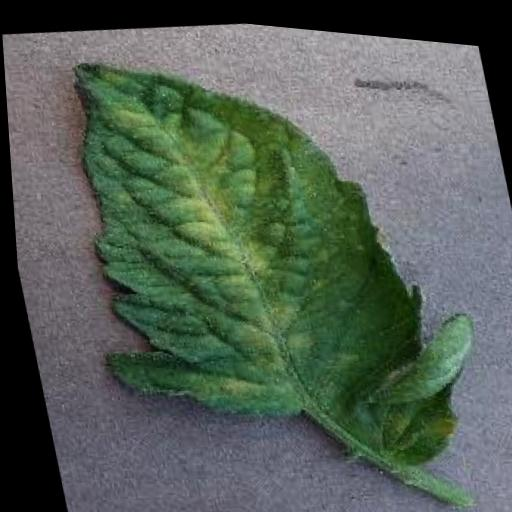Leaf Mold: (37, 9, 494, 503)
